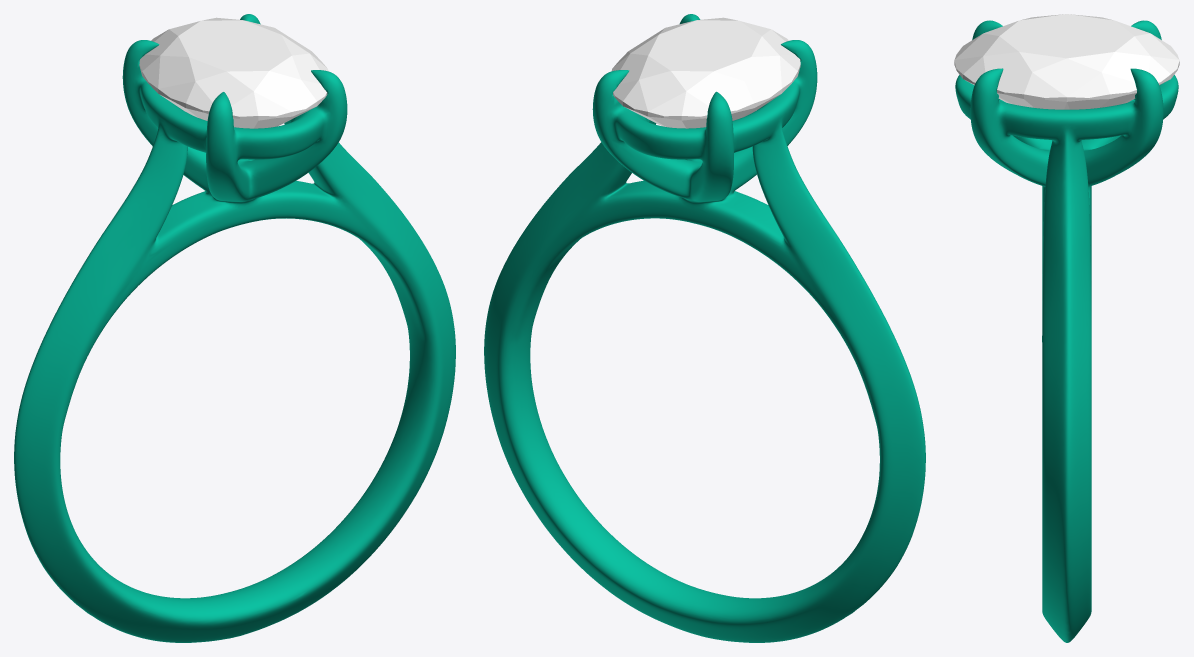
Rendered from BE1524_OV_200ct_RENDER.glb.
3 views of the same model, side by side, from view 1: azimuth 30°, elevation 25°; view 2: azimuth 150°, elevation 25°; view 3: azimuth 270°, elevation 25° (orthographic).
Parts seen in each view (by area): view 1: Metal 01, CS_Diamond_Oval; view 2: Metal 01, CS_Diamond_Oval; view 3: Metal 01, CS_Diamond_Oval.
Part boxes in pixels (x1,y1,x2,y2): Metal 01: [14, 14, 455, 642]; CS_Diamond_Oval: [139, 17, 328, 128]; Metal 01: [484, 14, 925, 642]; CS_Diamond_Oval: [611, 17, 800, 128]; Metal 01: [955, 20, 1178, 642]; CS_Diamond_Oval: [954, 14, 1179, 109].
Bounding box in the file's own units: 20.08 × 25.71 × 9.
